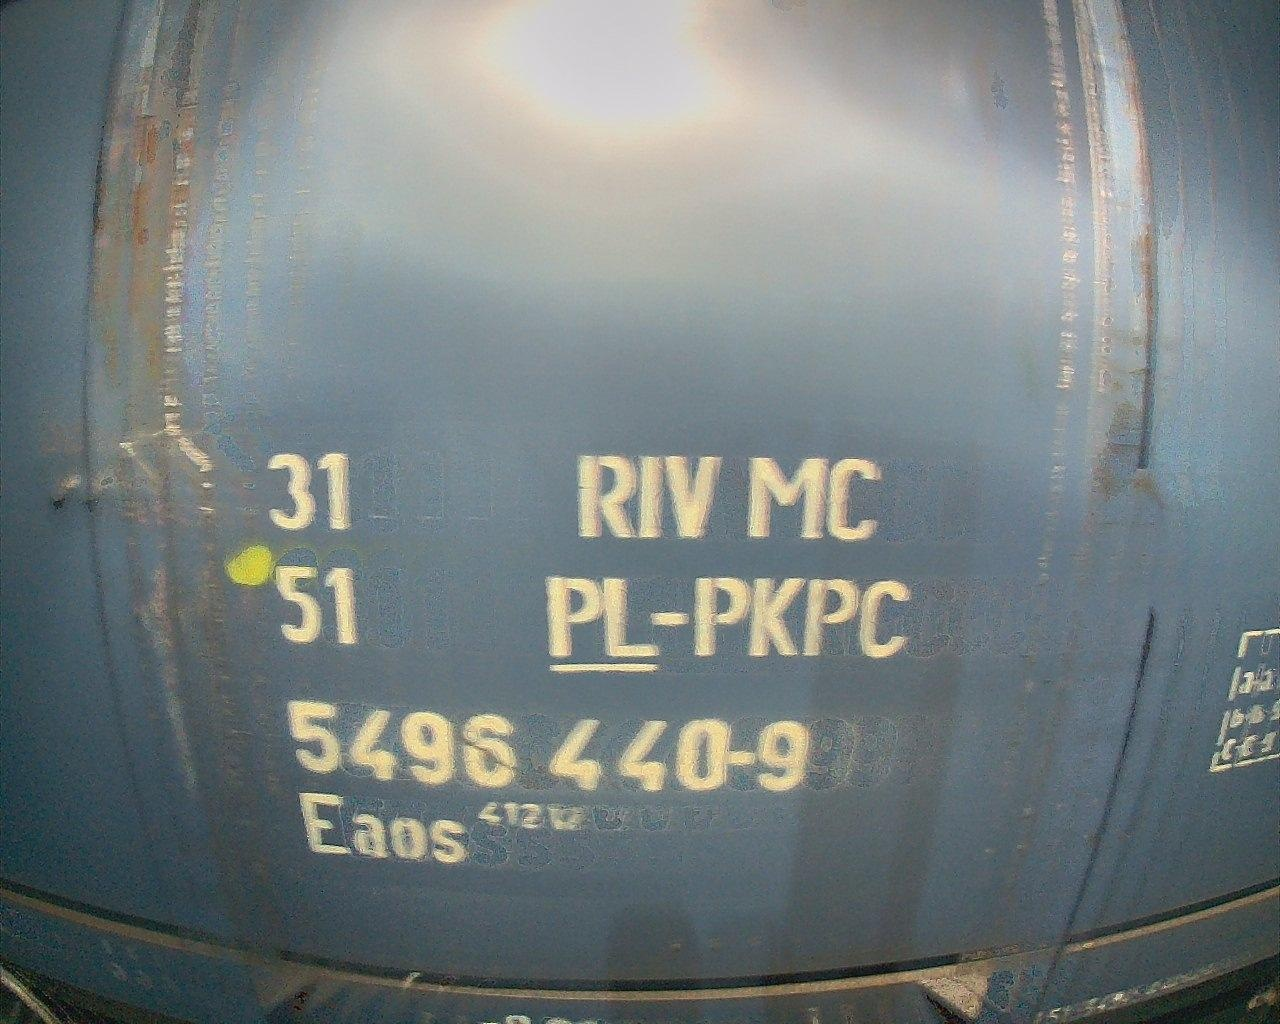UIC: (258, 442, 926, 877)
